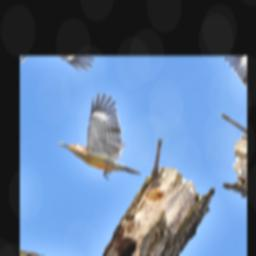Woodpecker: (42, 86, 149, 198)
